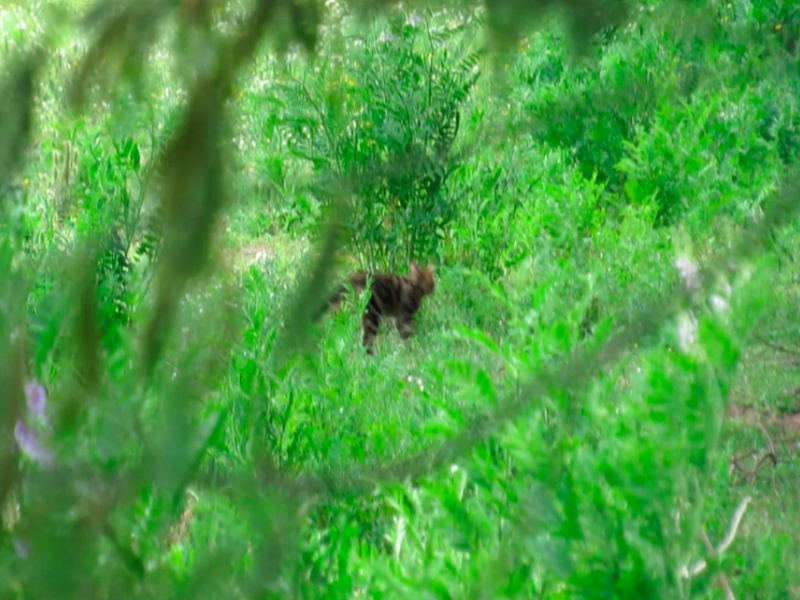cat: (301, 257, 439, 362)
